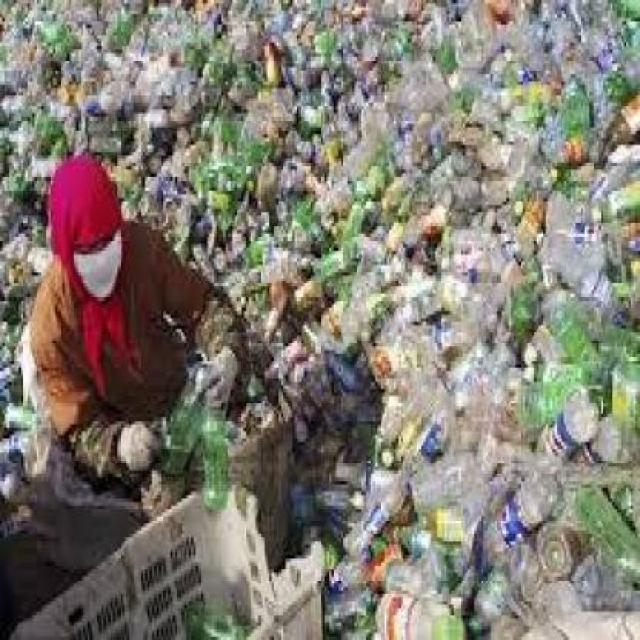garbage: (226, 18, 632, 630), (19, 11, 233, 146)
